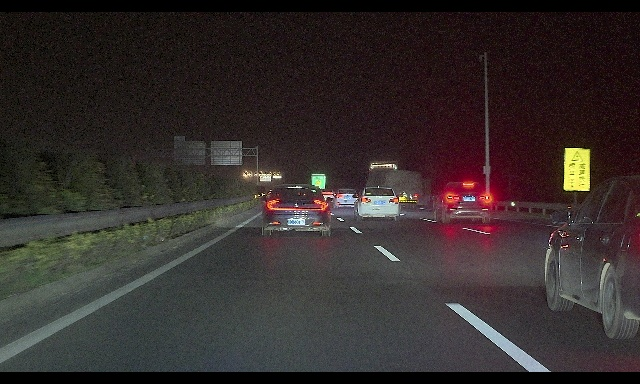car: (544, 177, 640, 339), (260, 184, 333, 236), (432, 181, 493, 223), (352, 185, 401, 221), (332, 188, 359, 209), (318, 189, 335, 202)
truck: (366, 160, 421, 208)
